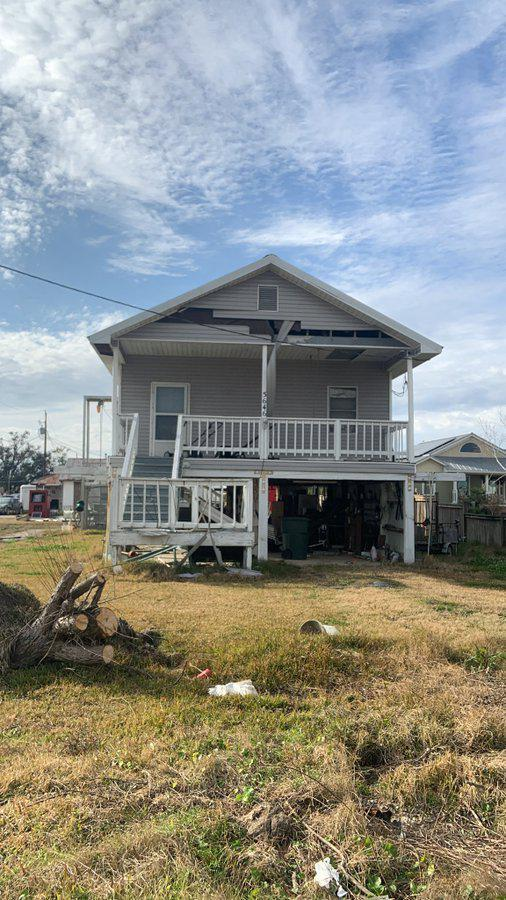minor: (72, 245, 454, 574)
